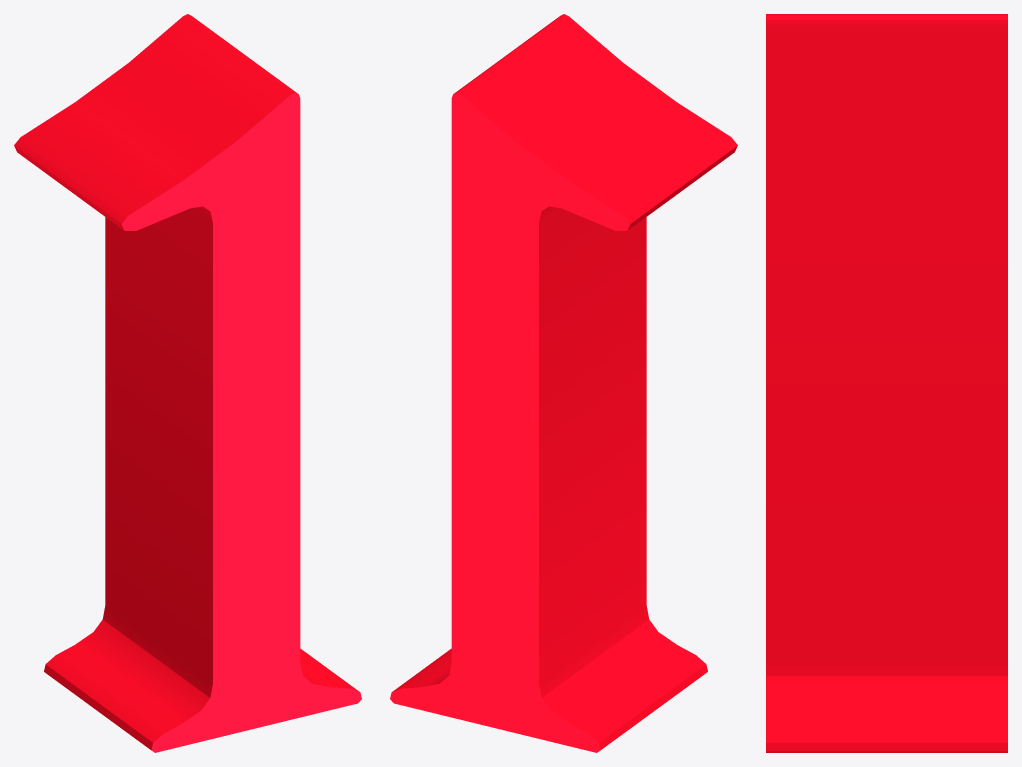
The picture shows the model from 3 angles, left to right: view 1: azimuth 30°, elevation 25°; view 2: azimuth 150°, elevation 25°; view 3: azimuth 270°, elevation 25°; orthographic projection. The views are drawn at different scales.
Visible parts, largest first — view 1: 1_Soul_Red; view 2: 1_Soul_Red; view 3: 1_Soul_Red.
Boxes of the visible parts, x1,y1,x2,y2 form: 1_Soul_Red: [14, 14, 361, 752]; 1_Soul_Red: [390, 14, 737, 752]; 1_Soul_Red: [766, 14, 1007, 752].
Size of what is drawn, in the model's own units: 0.058 by 0.1445 by 0.045.
2 materials, 2 textured.
